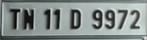1: (52, 7, 63, 31), (43, 8, 51, 30)
2: (130, 6, 141, 31)
7: (117, 7, 129, 30)
9: (90, 8, 103, 31), (104, 7, 116, 30)
D: (69, 8, 83, 31)
N: (23, 7, 36, 31)
T: (8, 7, 23, 32)
